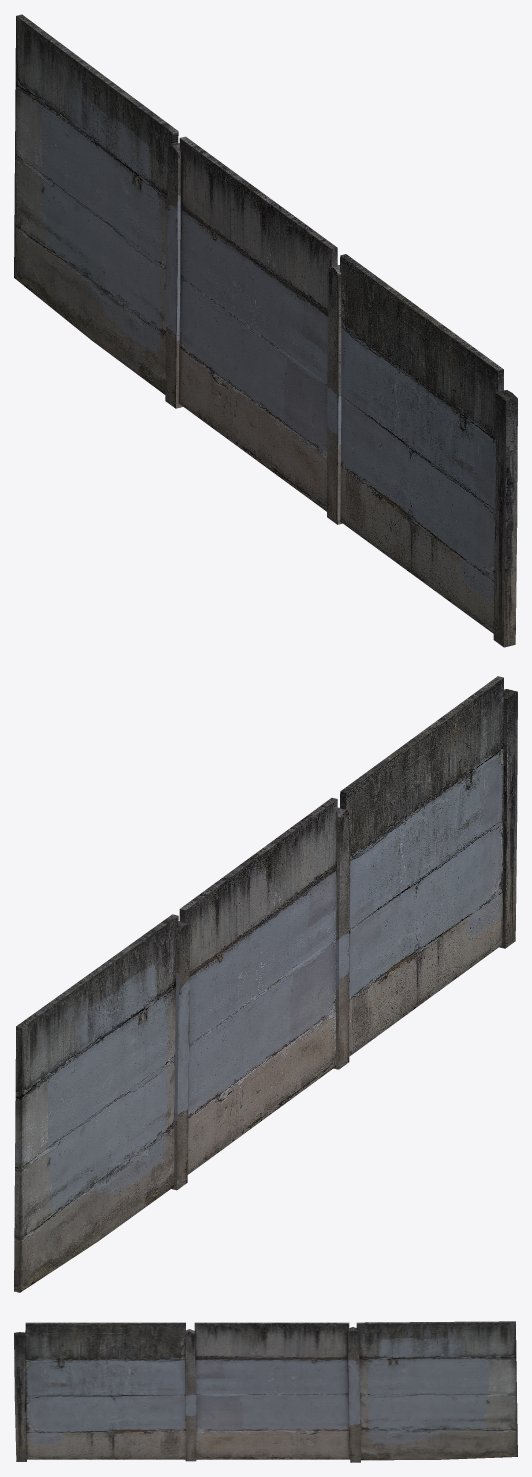
File: concrete_fence.glb
3 views of the same model, one above another, from view 1: azimuth 30°, elevation 25°; view 2: azimuth 150°, elevation 25°; view 3: azimuth 270°, elevation 25° (orthographic). The views are drawn at different scales.
Parts seen in each view (by area): view 1: ConcreteFence; view 2: ConcreteFence; view 3: ConcreteFence.
Part boxes in pixels (x1=…): ConcreteFence: x1=14, y1=14, x2=517, y2=647; ConcreteFence: x1=14, y1=676, x2=517, y2=1292; ConcreteFence: x1=14, y1=1321, x2=517, y2=1462.
Size of the model in its own units: 0.1195 by 2.67 by 8.77.
1 material, 1 textured.
